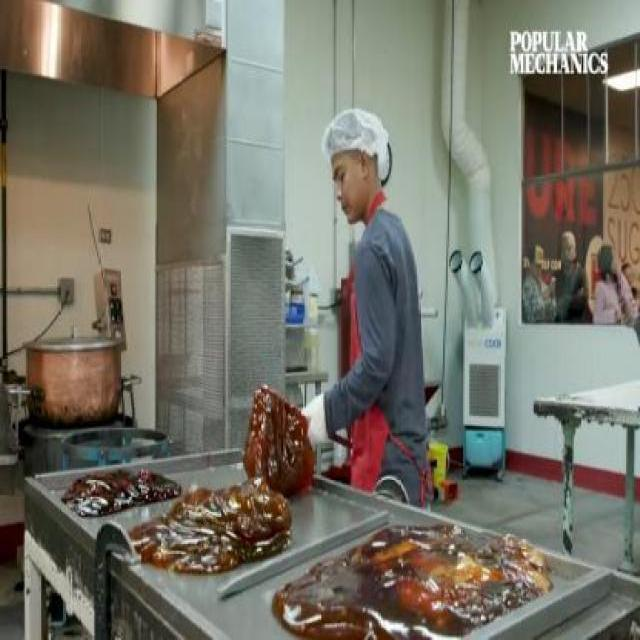gloved_hand: (298, 392, 343, 456)
